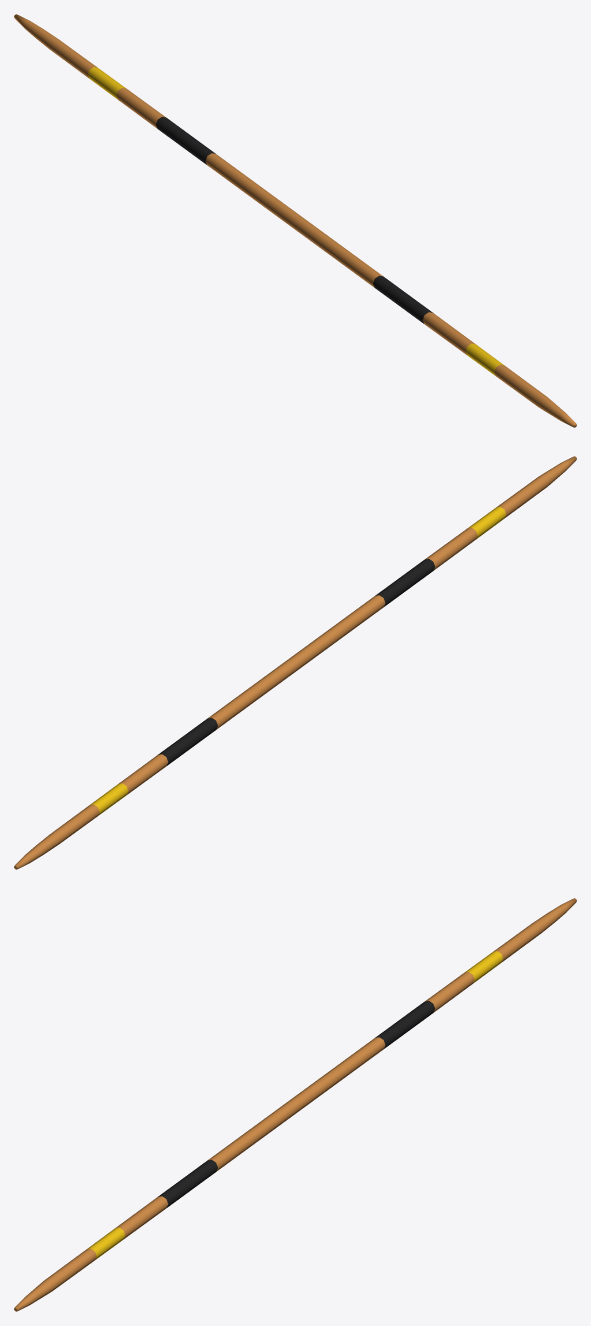
The model's file is SM_Mikado_Mandarin.fbx.
3 views of the same model, one above another, from view 1: azimuth 30°, elevation 25°; view 2: azimuth 150°, elevation 25°; view 3: azimuth 330°, elevation 25° (orthographic).
Parts seen in each view (by area): view 1: Mikado_Mandarin; view 2: Mikado_Mandarin; view 3: Mikado_Mandarin.
Boxes of the visible parts, x1=… form: Mikado_Mandarin: x1=14, y1=14, x2=576, y2=427; Mikado_Mandarin: x1=14, y1=456, x2=576, y2=869; Mikado_Mandarin: x1=14, y1=898, x2=576, y2=1311.
Bounding box in the file's own units: 0.3784 × 0.3784 × 29.26.
